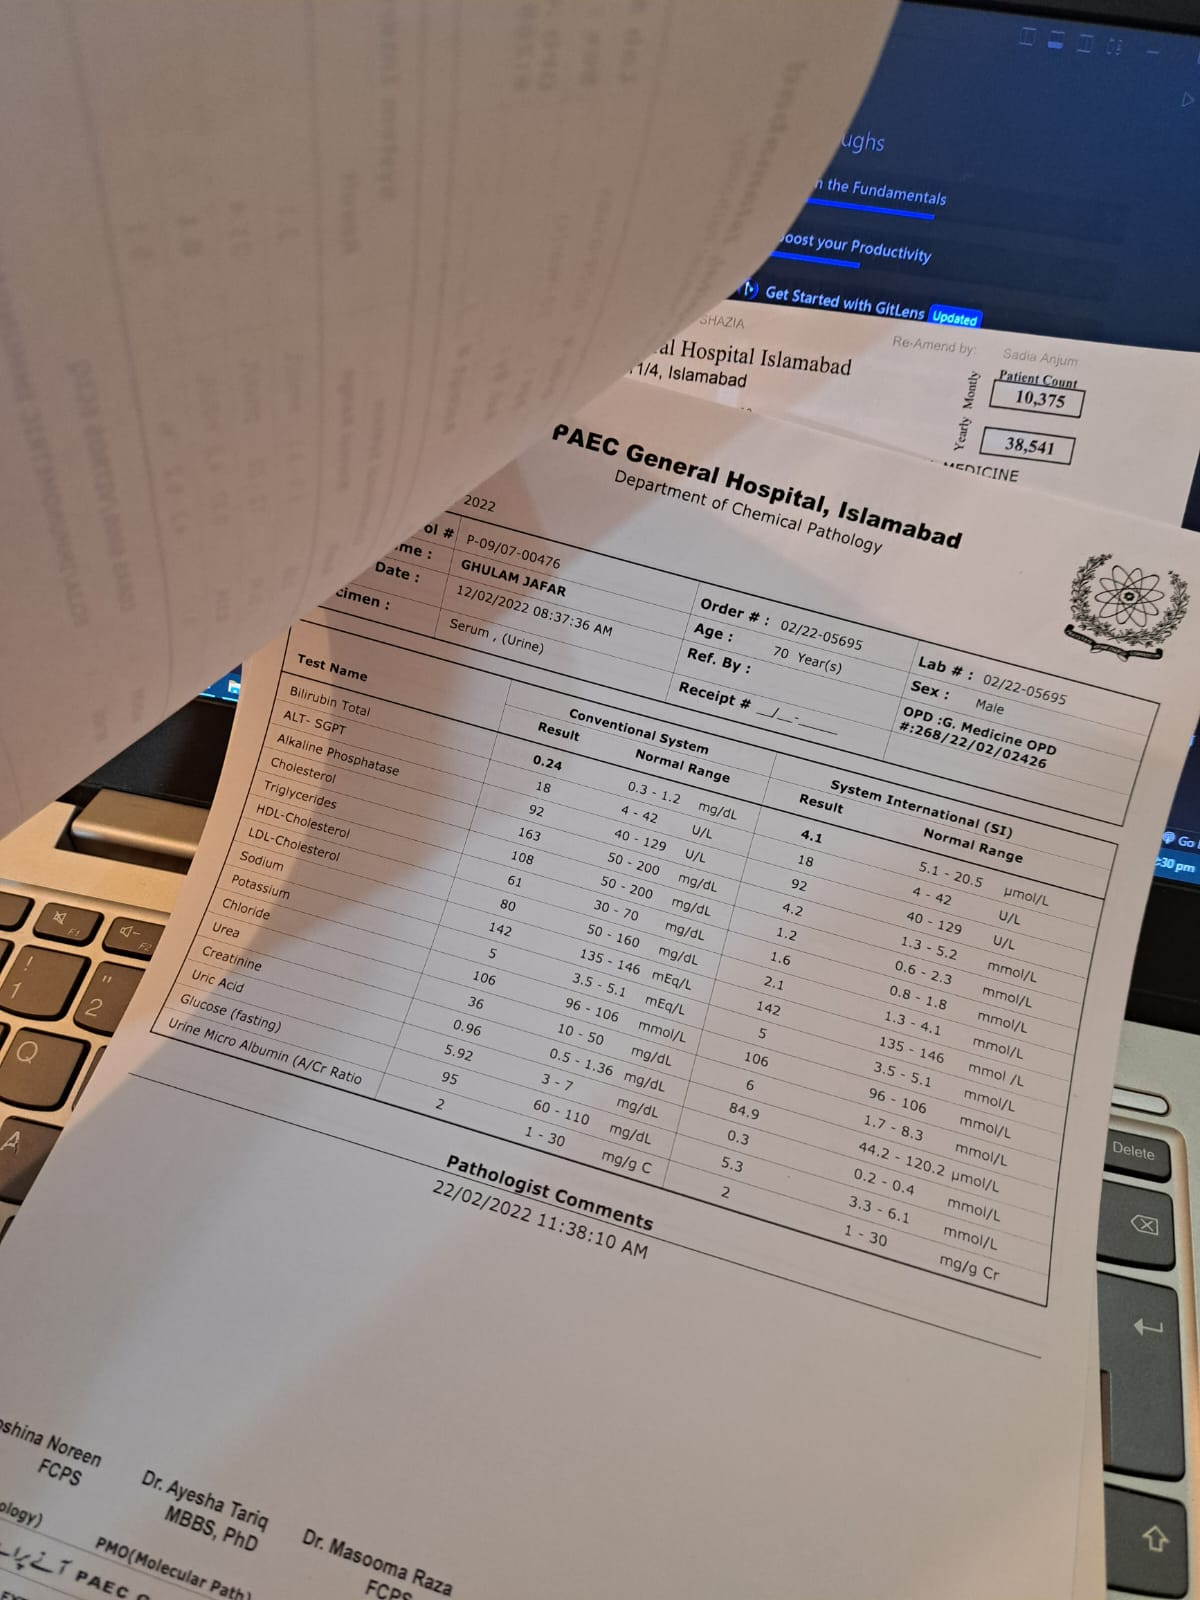report: (147, 596, 1116, 1313)
